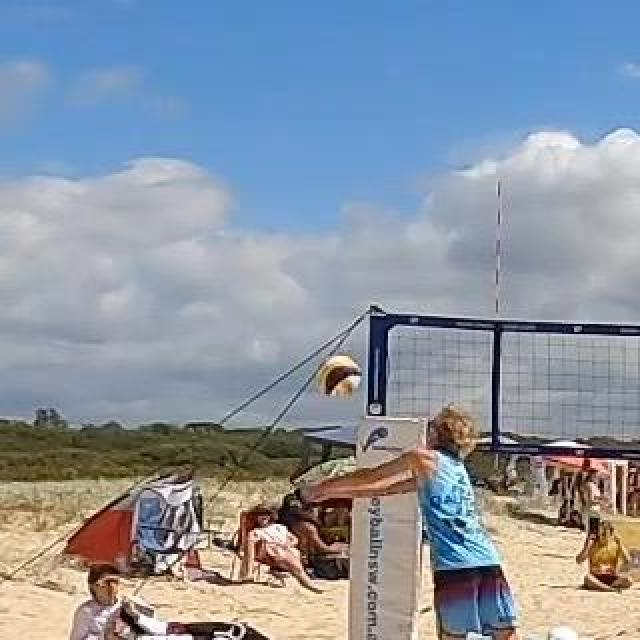volleyball: (319, 357, 361, 399)
